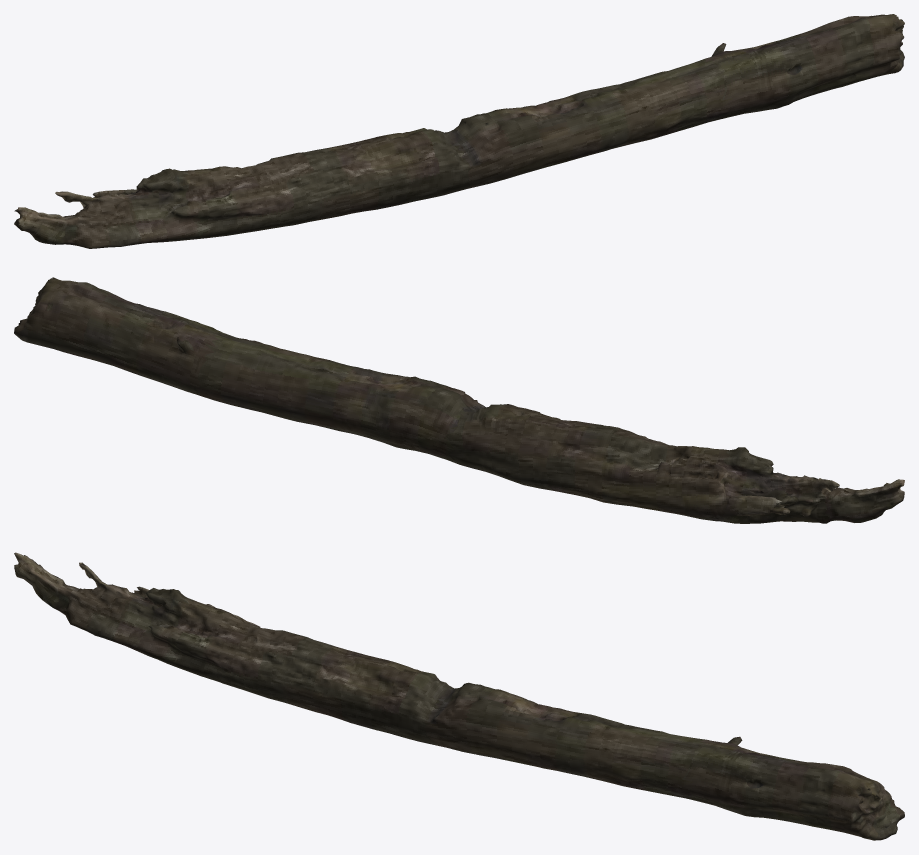
File: grounded-deadwood-weathered.glb
3 views of the same model, one above another, from view 1: azimuth 30°, elevation 25°; view 2: azimuth 150°, elevation 25°; view 3: azimuth 330°, elevation 25° (orthographic).
Parts seen in each view (by area): view 1: grounded-deadwood-weathered runtime mesh; view 2: grounded-deadwood-weathered runtime mesh; view 3: grounded-deadwood-weathered runtime mesh.
Part boxes in pixels (x1=…): grounded-deadwood-weathered runtime mesh: x1=14, y1=14, x2=904, y2=248; grounded-deadwood-weathered runtime mesh: x1=14, y1=277, x2=904, y2=523; grounded-deadwood-weathered runtime mesh: x1=14, y1=552, x2=904, y2=840.
Bounding box in the file's own units: 2.1 × 0.1991 × 0.1904.
Materials: 1 (1 with a texture image).
